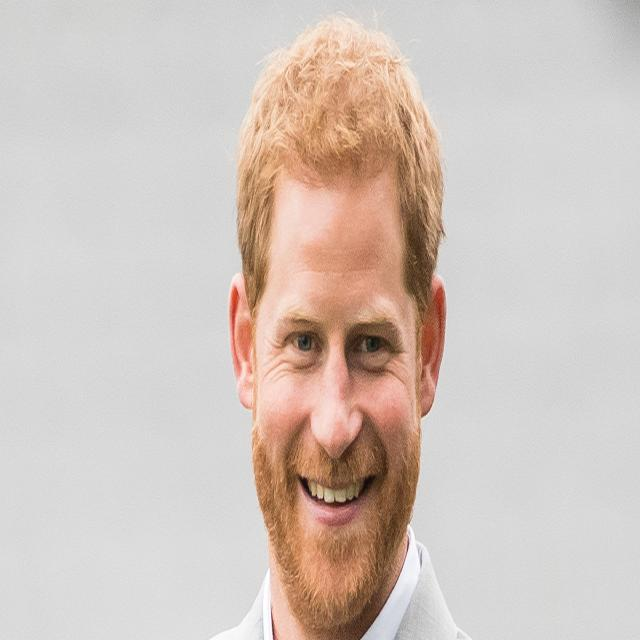mobile_phonerotation: (210, 15, 471, 635)
